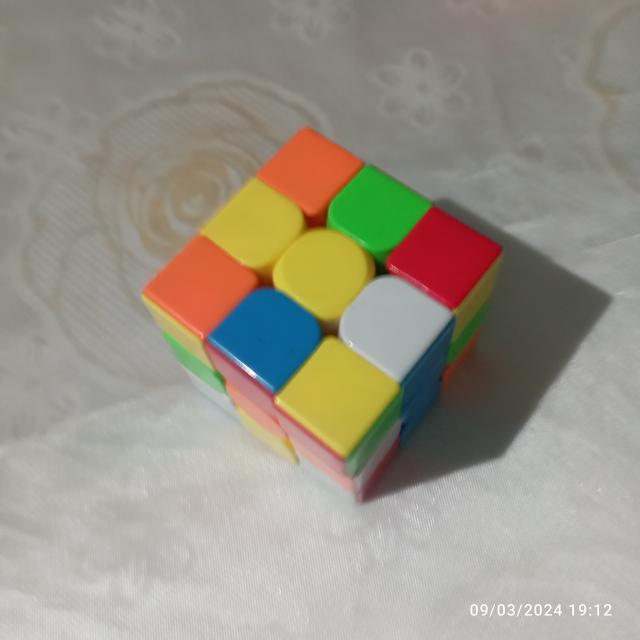Rub: (136, 122, 508, 504)
